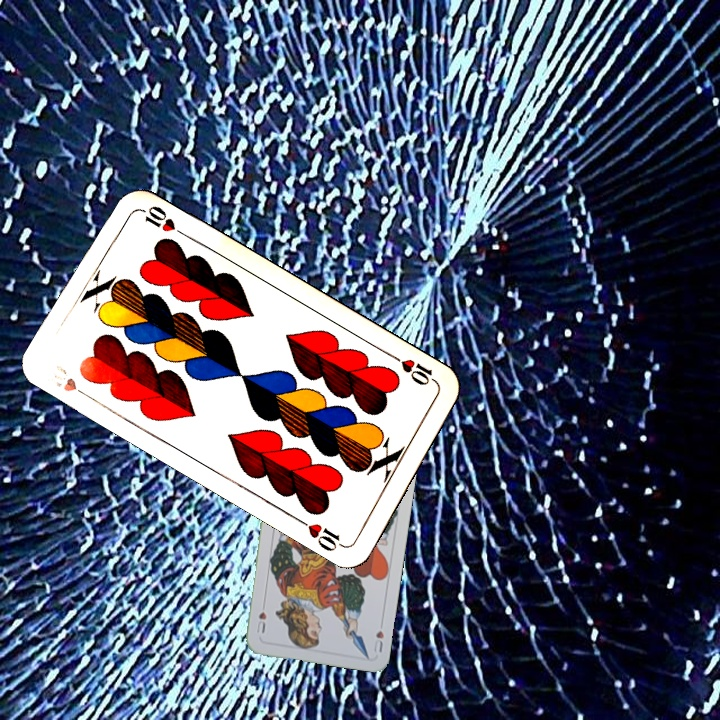H10: (388, 350, 441, 389), (48, 367, 95, 403)
HU: (370, 627, 386, 655)
